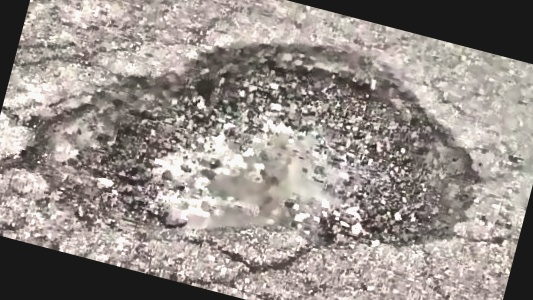pothole: (0, 0, 512, 300)
